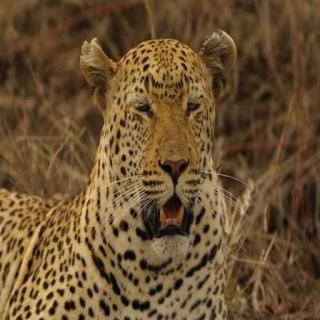Leopard: (22, 3, 259, 320)
